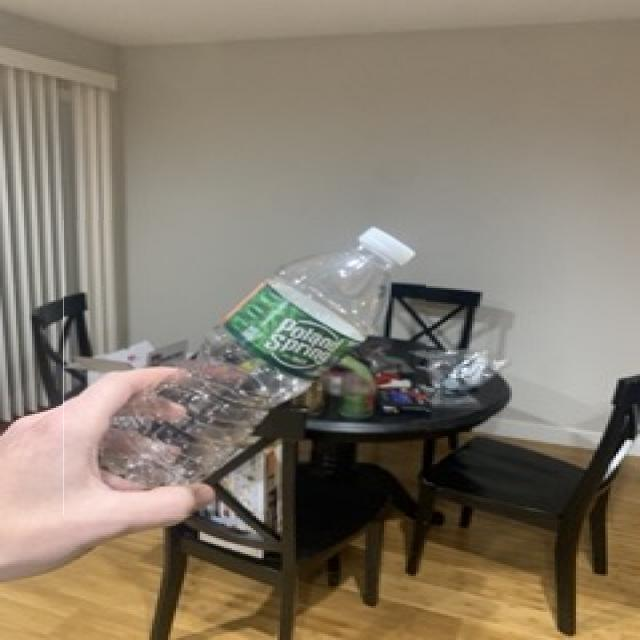water_bottle: (64, 221, 426, 514)
